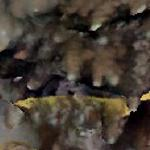alive: (1, 3, 145, 146)
